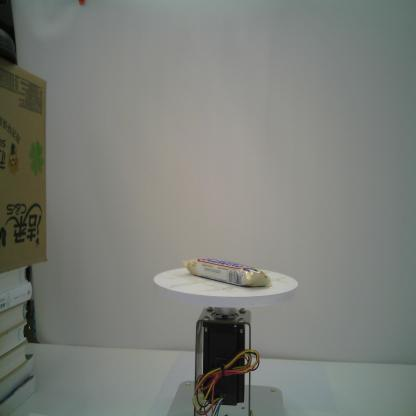Chocolate: (180, 254, 272, 291)
